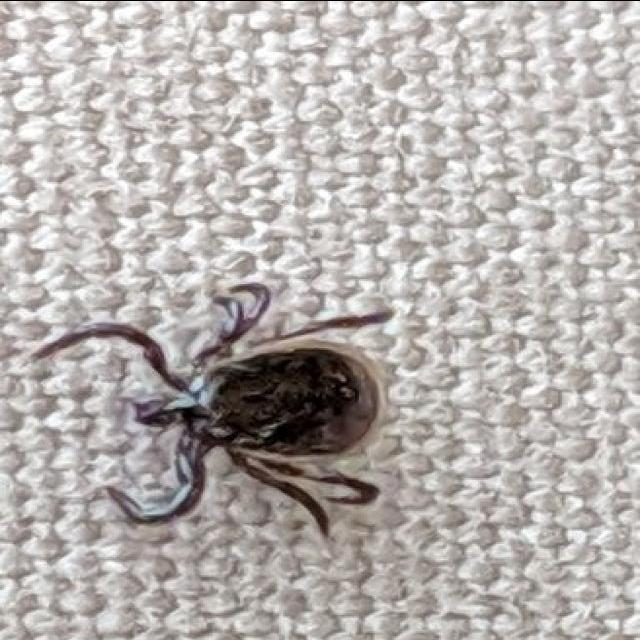Ixodes Ricinus-M: (31, 281, 392, 535)
